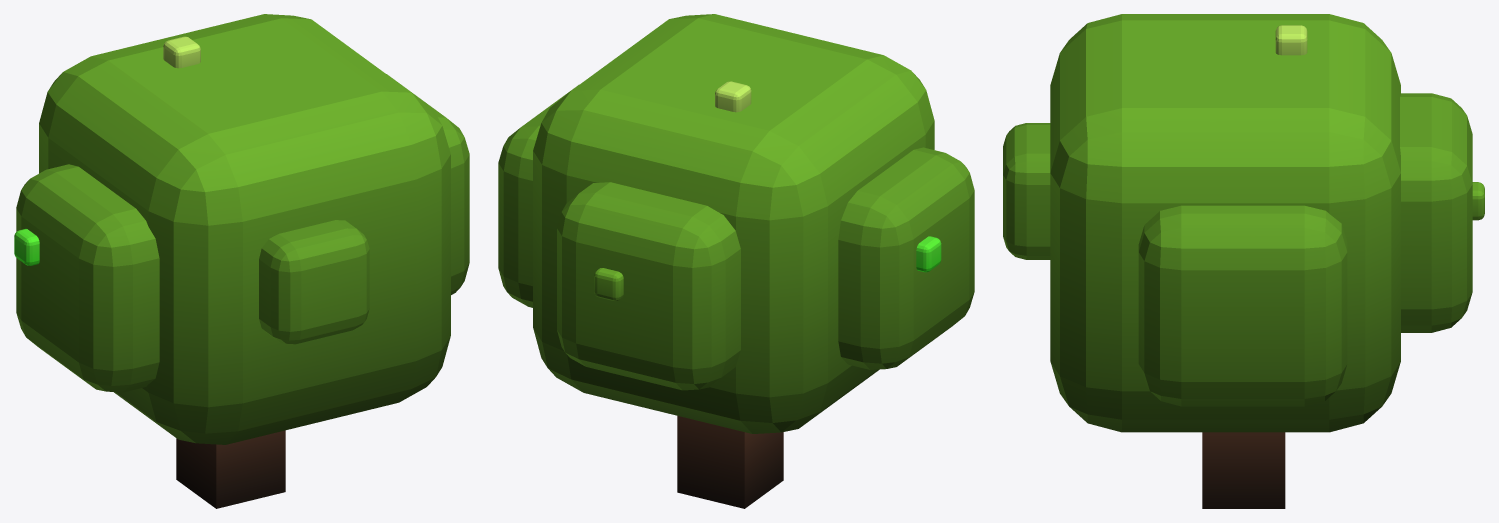
Rendered from tree 3.fbx.
3 renders of one model, left to right at view 1: azimuth 30°, elevation 25°; view 2: azimuth 150°, elevation 25°; view 3: azimuth 270°, elevation 25°, orthographic. The views are drawn at different scales.
Visible parts, largest first — view 1: bushes; view 2: bushes; view 3: bushes.
Part boxes in pixels (x1,y1,x2,y2): bushes: (14,14,469,508); bushes: (498,14,974,508); bushes: (1003,14,1484,508).
Bounding box in the file's own units: 6.79 × 6.79 × 6.61.
1 material, 1 textured.
